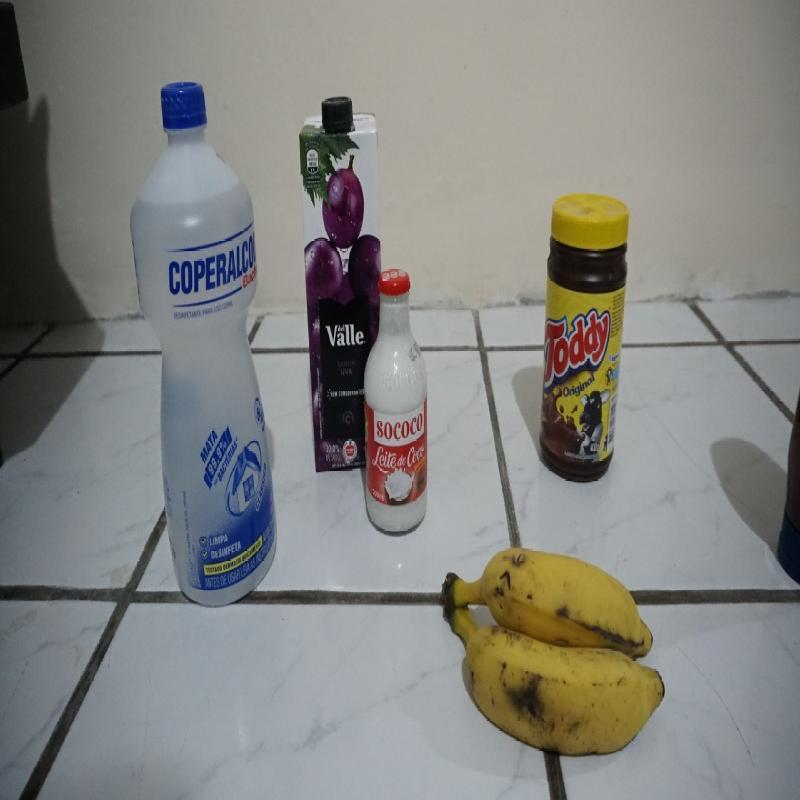Alcohol Bottle: (129, 80, 280, 616)
Banana: (440, 546, 669, 758)
Chocolate Powder: (538, 190, 630, 484)
Coconut Milk: (362, 266, 432, 541)
